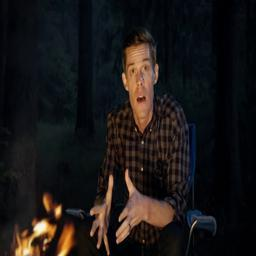fire: (13, 194, 73, 256)
